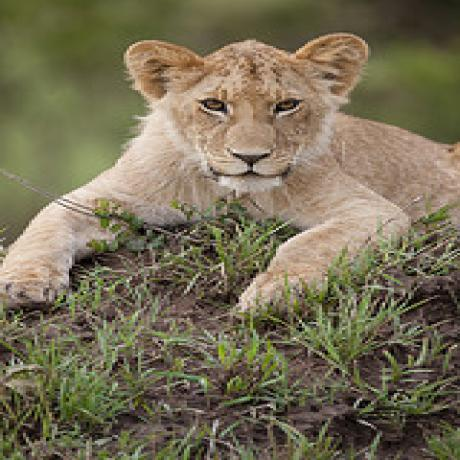Lion: (0, 33, 460, 326)
